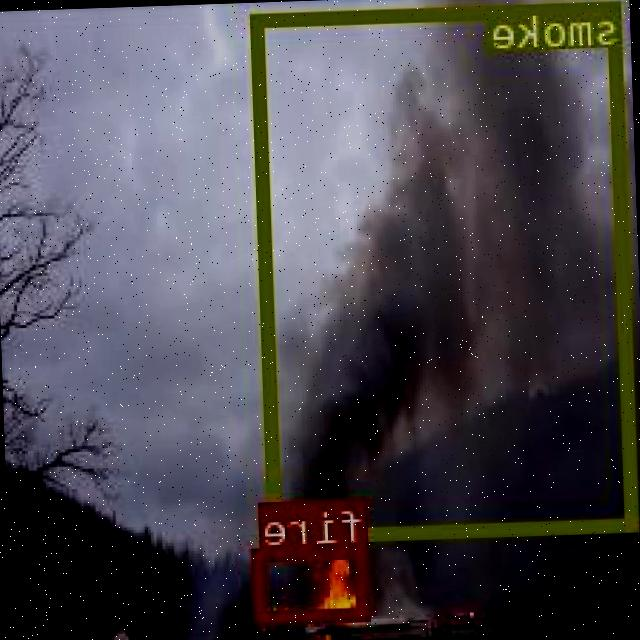fire: (255, 542, 372, 622)
smoke: (254, 0, 640, 540)
